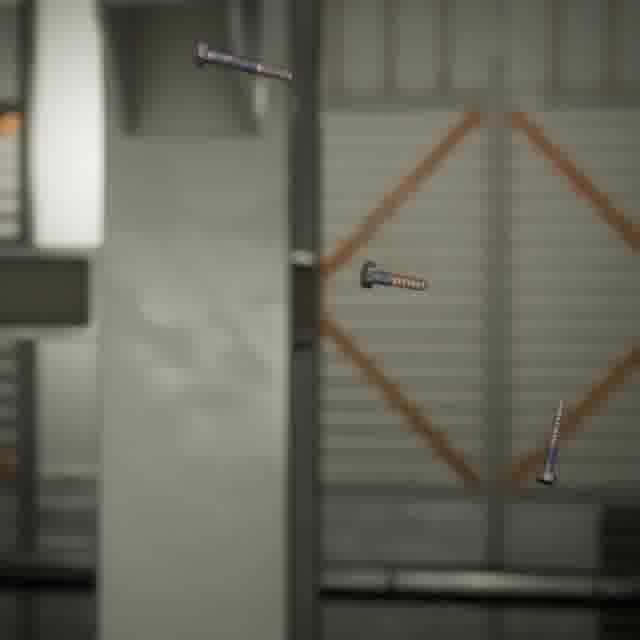bolt: (189, 35, 298, 86), (530, 390, 570, 489), (355, 256, 433, 296)
